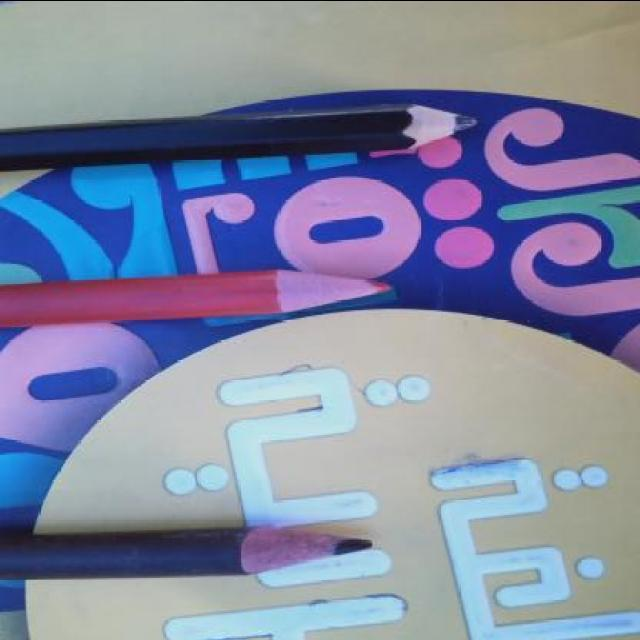pencil: (223, 512, 379, 580), (258, 263, 400, 319), (382, 92, 484, 156)
